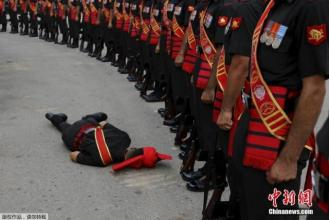10+: (1, 1, 329, 219)
down: (44, 105, 165, 176)
